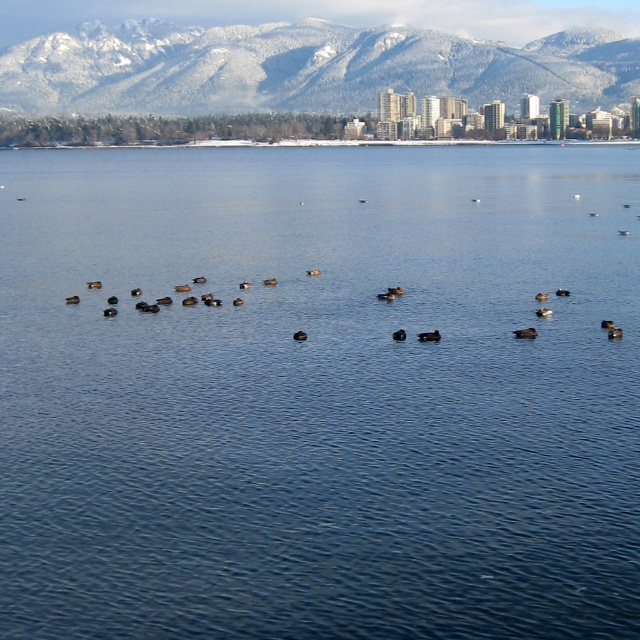Duck: (510, 327, 540, 339)
